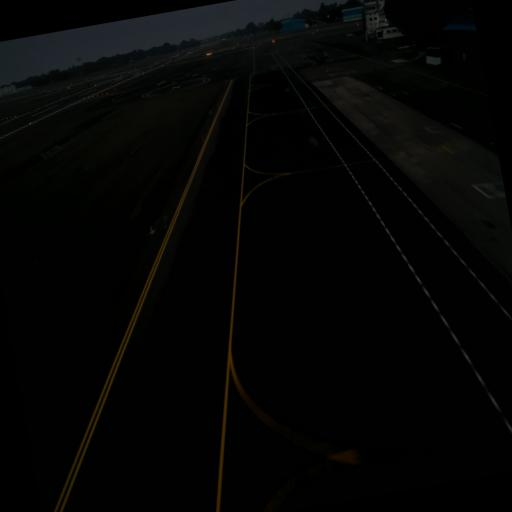on: (148, 223, 154, 233)
